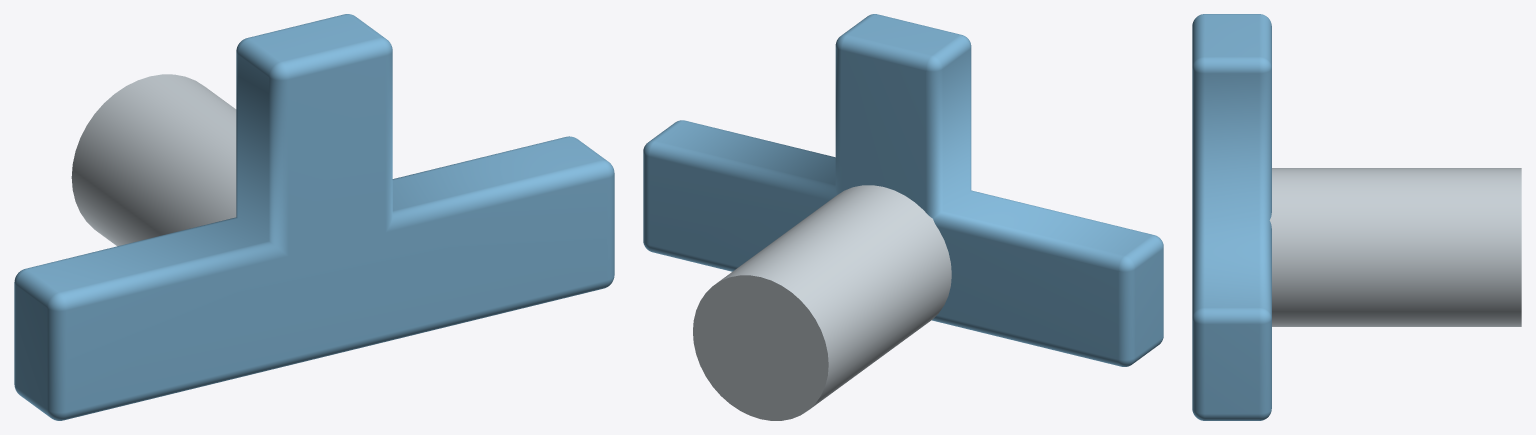
Rendered from STOPCOCK.glb.
3 views of the same model, side by side, from view 1: azimuth 30°, elevation 25°; view 2: azimuth 150°, elevation 25°; view 3: azimuth 270°, elevation 25° (orthographic). The views are drawn at different scales.
Visible parts, largest first — view 1: STOPCOCK/0001_handle_pointer, STOPCOCK/0000_rotor; view 2: STOPCOCK/0001_handle_pointer, STOPCOCK/0000_rotor; view 3: STOPCOCK/0000_rotor, STOPCOCK/0001_handle_pointer.
Part boxes in pixels (bbox=[...]): STOPCOCK/0001_handle_pointer: bbox=[14, 14, 614, 420]; STOPCOCK/0000_rotor: bbox=[71, 74, 236, 246]; STOPCOCK/0001_handle_pointer: bbox=[643, 14, 1163, 366]; STOPCOCK/0000_rotor: bbox=[693, 185, 951, 420]; STOPCOCK/0000_rotor: bbox=[1269, 168, 1521, 326]; STOPCOCK/0001_handle_pointer: bbox=[1192, 14, 1271, 420].
Bounding box in the file's own units: 0.065 × 0.0354 × 0.0373.
